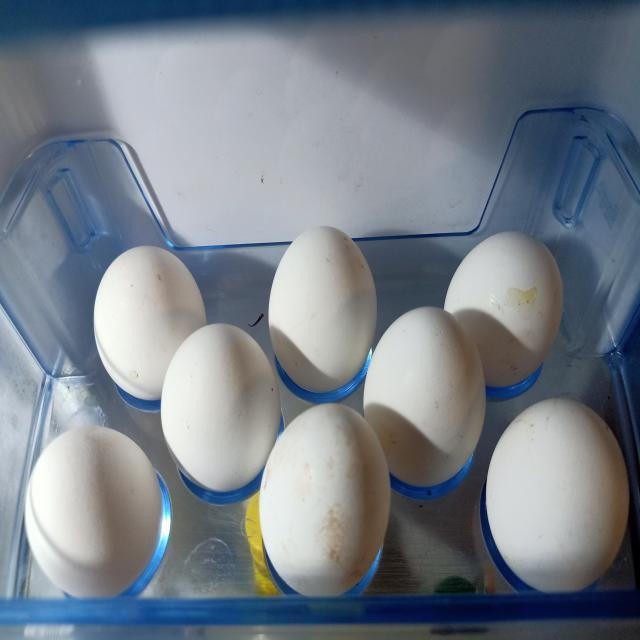Egg: (481, 389, 638, 599), (253, 384, 397, 594), (16, 412, 166, 600), (154, 310, 294, 502), (79, 236, 216, 432), (362, 304, 489, 486), (256, 214, 381, 396), (439, 236, 576, 402)
